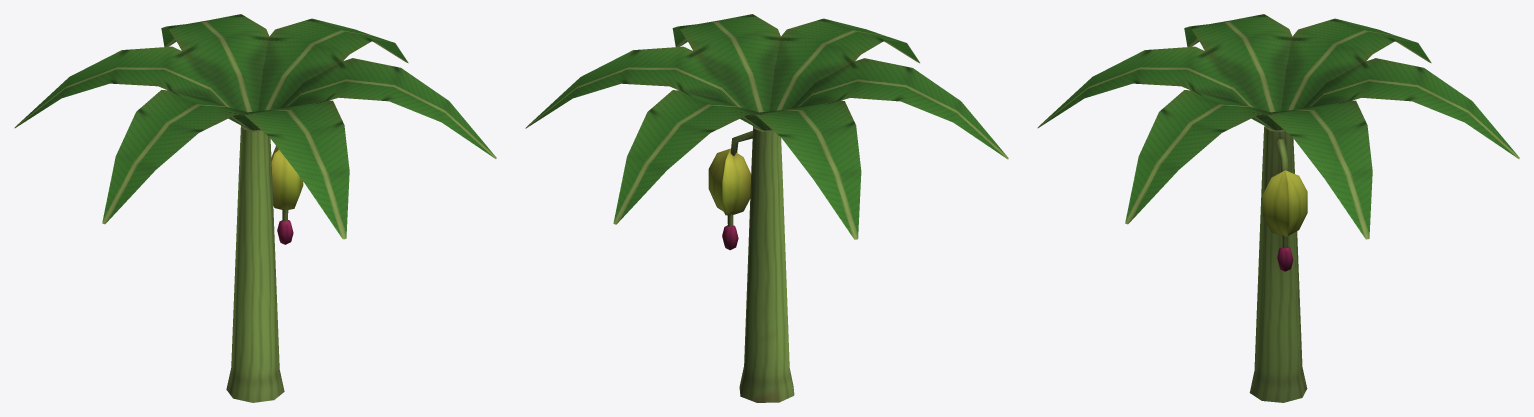
The model's file is banana_tree.obj.
3 views of the same model, side by side, from view 1: azimuth 30°, elevation 25°; view 2: azimuth 150°, elevation 25°; view 3: azimuth 270°, elevation 25° (orthographic).
Parts seen in each view (by area): view 1: BananaTree; view 2: BananaTree; view 3: BananaTree.
Boxes of the visible parts, x1,y1,x2,y2 form: BananaTree: (14,14,496,402); BananaTree: (525,14,1008,402); BananaTree: (1037,14,1519,402).
Size of the model in its own units: 4.67 by 3.61 by 4.95.
Materials: 1 (1 with a texture image).
